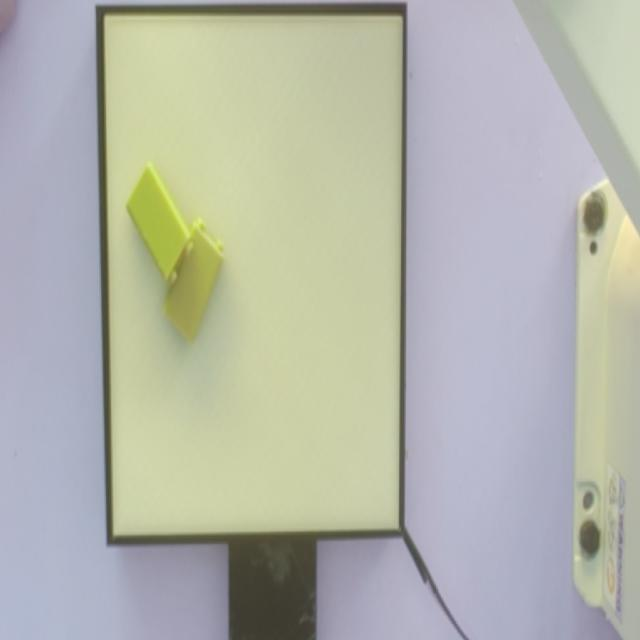bateria: (124, 161, 193, 288)
mesa: (95, 3, 407, 547)
